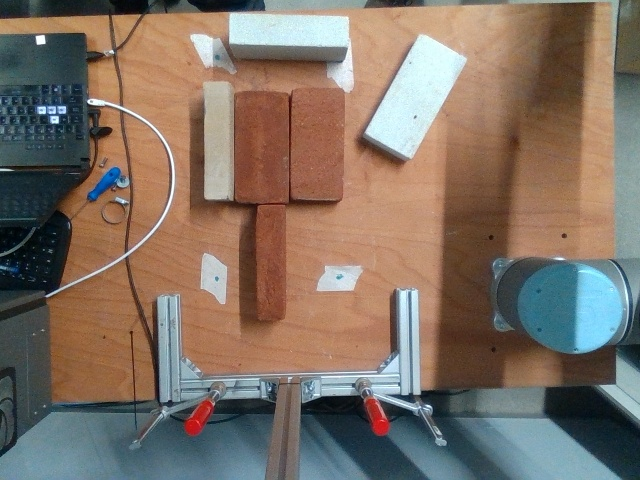brick: (364, 34, 465, 158), (235, 93, 287, 200), (293, 89, 341, 198)
brick-side: (228, 15, 347, 46), (256, 206, 283, 318), (204, 82, 228, 198)
